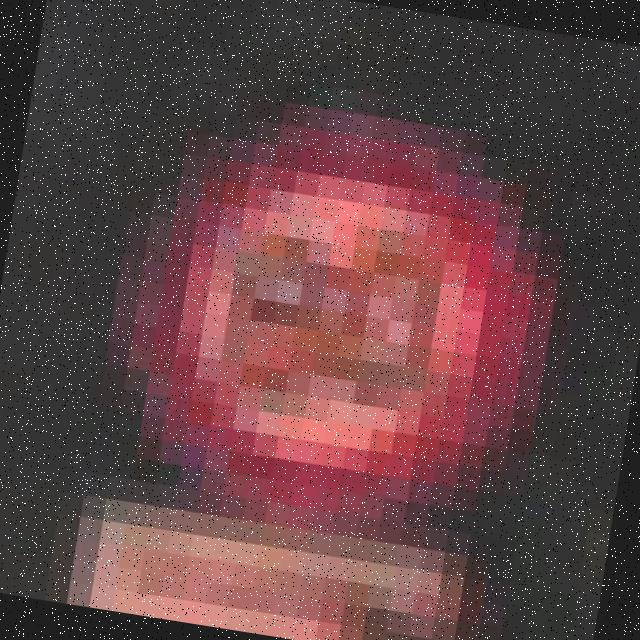Ograniczenie predkosci do 80: (127, 116, 542, 534)
